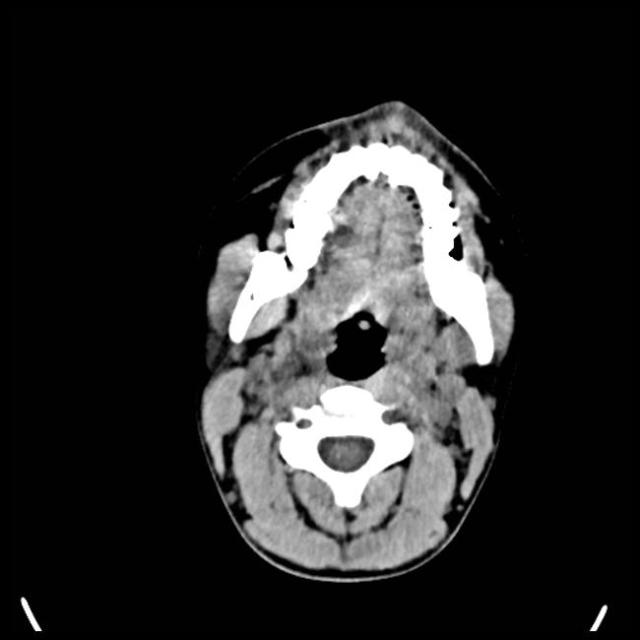lesion: (192, 99, 524, 585)
